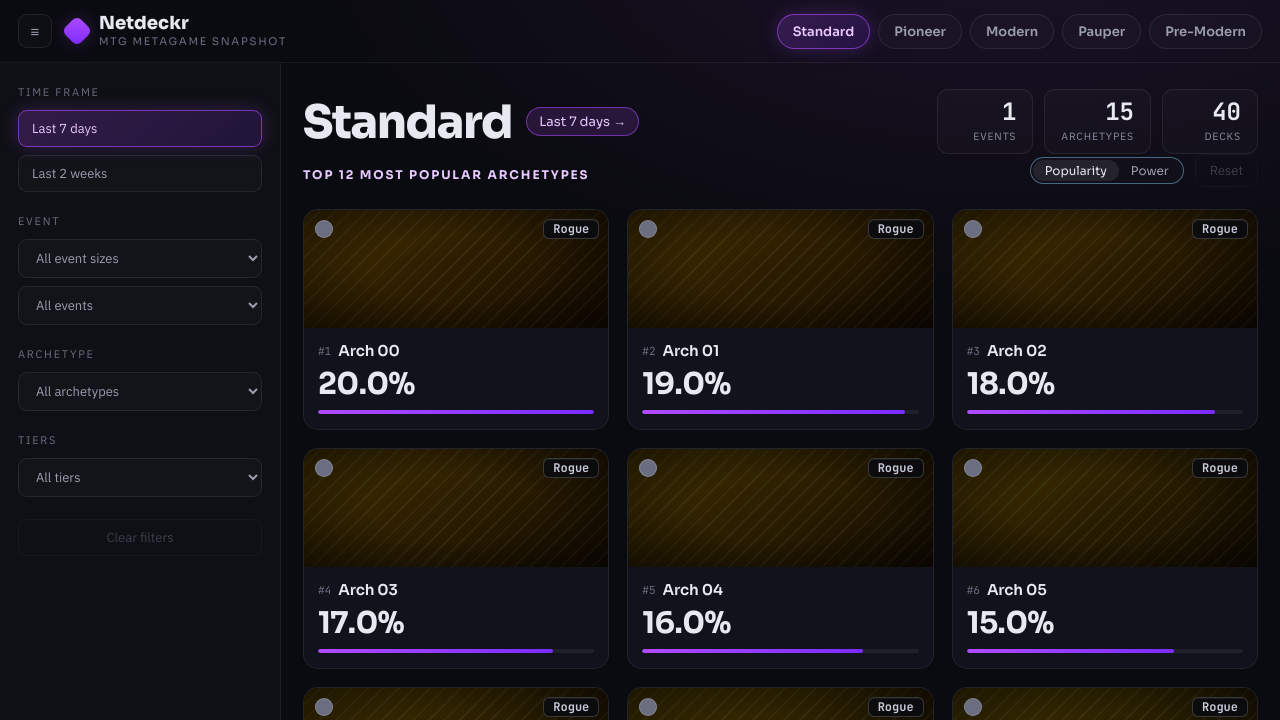
App dashboard › names the selected event and uncaps the grid in the popularity view
Select "RCQ — Jul 5" in the dropdown named "Event". click: (140, 306)
box: left=18, top=286, right=262, bottom=325
(page scrolled)
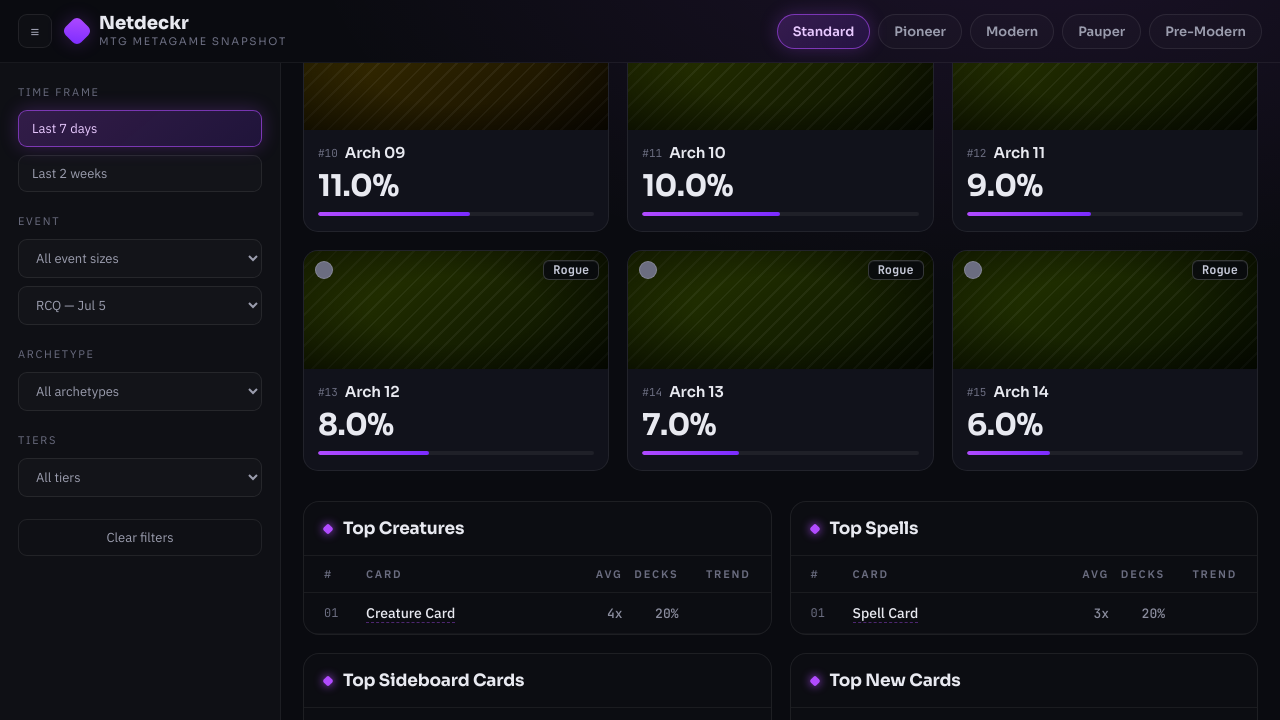
Expected: the text "Arch 12" is shown, left=345, top=382, right=399, bottom=401
Expected: the text "Arch 14" is shown, left=994, top=382, right=1049, bottom=401
